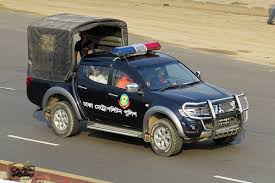policecar: (26, 12, 249, 157)
